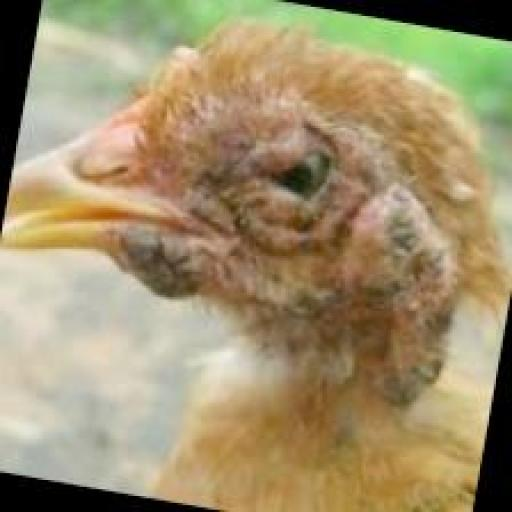disease: (75, 24, 502, 416)
